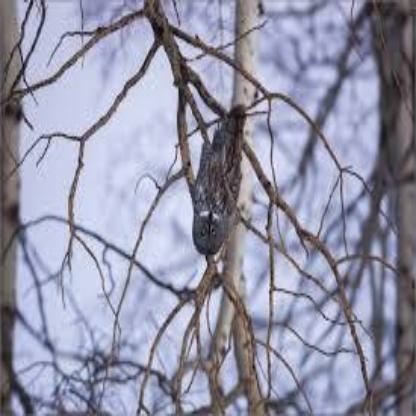Owl: (193, 105, 247, 253)
